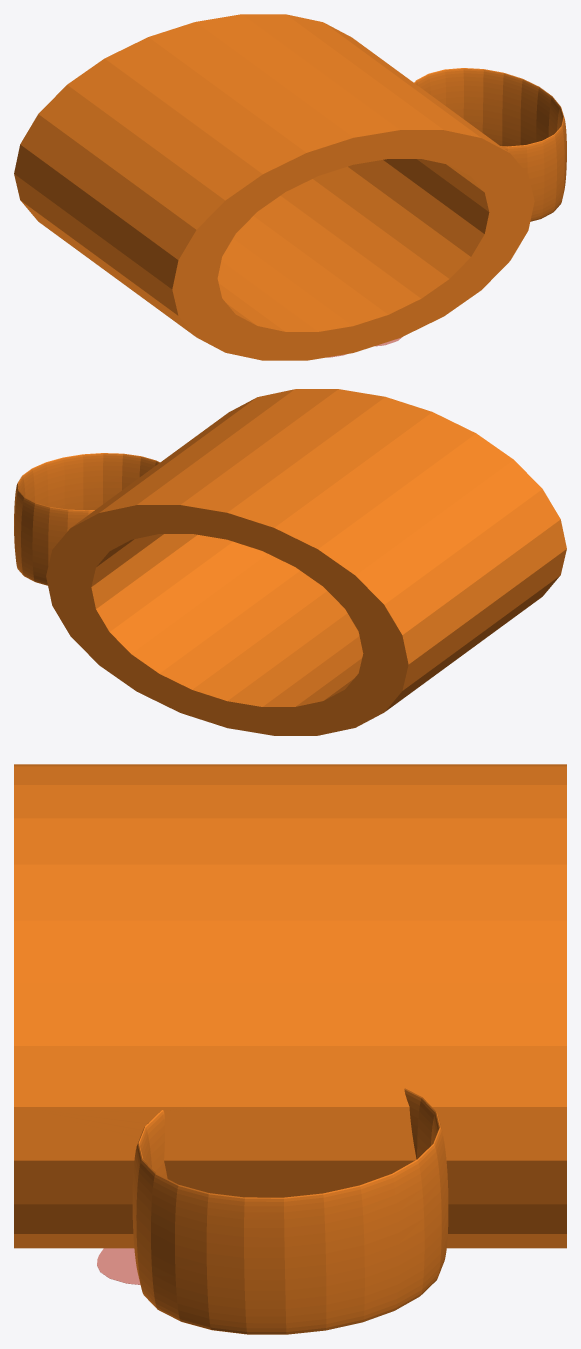
Rendered from tinker.obj.
3 views of the same model, one above another, from view 1: azimuth 30°, elevation 25°; view 2: azimuth 150°, elevation 25°; view 3: azimuth 270°, elevation 25° (orthographic). The views are drawn at different scales.
Visible parts, largest first — view 1: group_0_16089887; view 2: group_0_16089887; view 3: group_0_16089887, group_0_15308428.
Boxes of the visible parts, bbox=[...] form: group_0_16089887: bbox=[14, 14, 566, 360]; group_0_16089887: bbox=[14, 389, 566, 735]; group_0_16089887: bbox=[14, 764, 566, 1334]; group_0_15308428: bbox=[97, 1248, 140, 1284].
Size of the model in its own units: 47 by 21 by 28.
